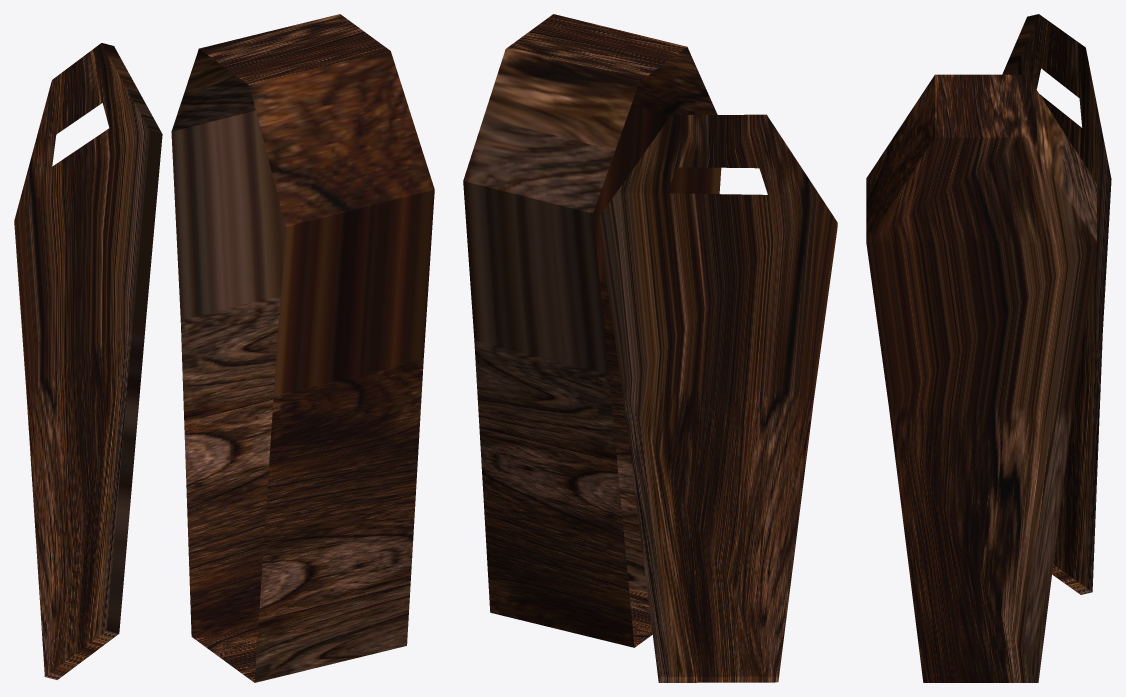
File: Open_Coffin_With_Lid .glb
3 views of the same model, side by side, from view 1: azimuth 30°, elevation 25°; view 2: azimuth 150°, elevation 25°; view 3: azimuth 270°, elevation 25° (orthographic). The views are drawn at different scales.
Visible parts, largest first — view 1: Coffin_Open With Lid_Open, Coffin_WithLid_Open; view 2: Coffin_WithLid_Open, Coffin_Open With Lid_Open; view 3: Coffin_Open With Lid_Open, Coffin_WithLid_Open.
Part boxes in pixels (box(x1,y1,x2,y2)): Coffin_Open With Lid_Open: box(171, 14, 434, 682); Coffin_WithLid_Open: box(14, 43, 162, 679); Coffin_WithLid_Open: box(598, 114, 837, 682); Coffin_Open With Lid_Open: box(463, 14, 721, 647); Coffin_Open With Lid_Open: box(866, 74, 1096, 682); Coffin_WithLid_Open: box(1002, 14, 1111, 594).
Size of the model in its own units: 3.18 by 5.2 by 2.13.
Materials: 1 (1 with a texture image).
